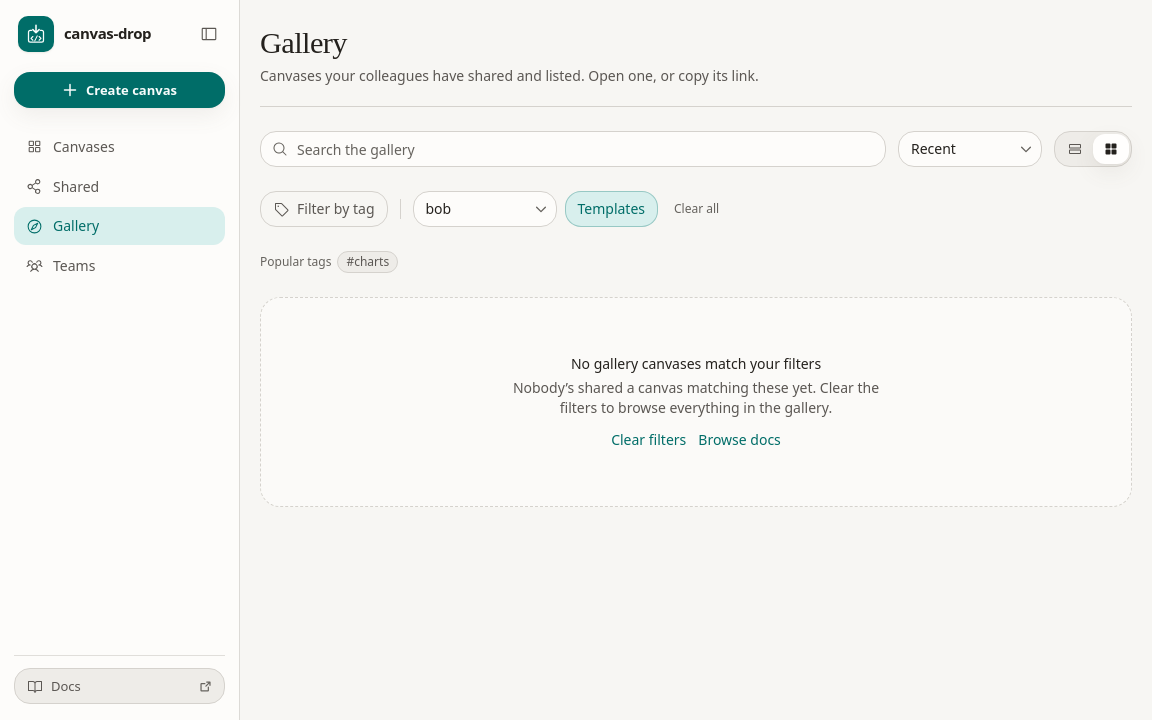
Test: Gallery view › Clear all resets every filter at once (plan 004)
The image size is (1152, 720).
Expected: the text "No gallery canvases match your filters" is shown, top-left (571, 354), bottom-right (821, 373)
Click the button "Clear all". click: x=697, y=209
box: top-left (666, 191), bottom-right (727, 227)
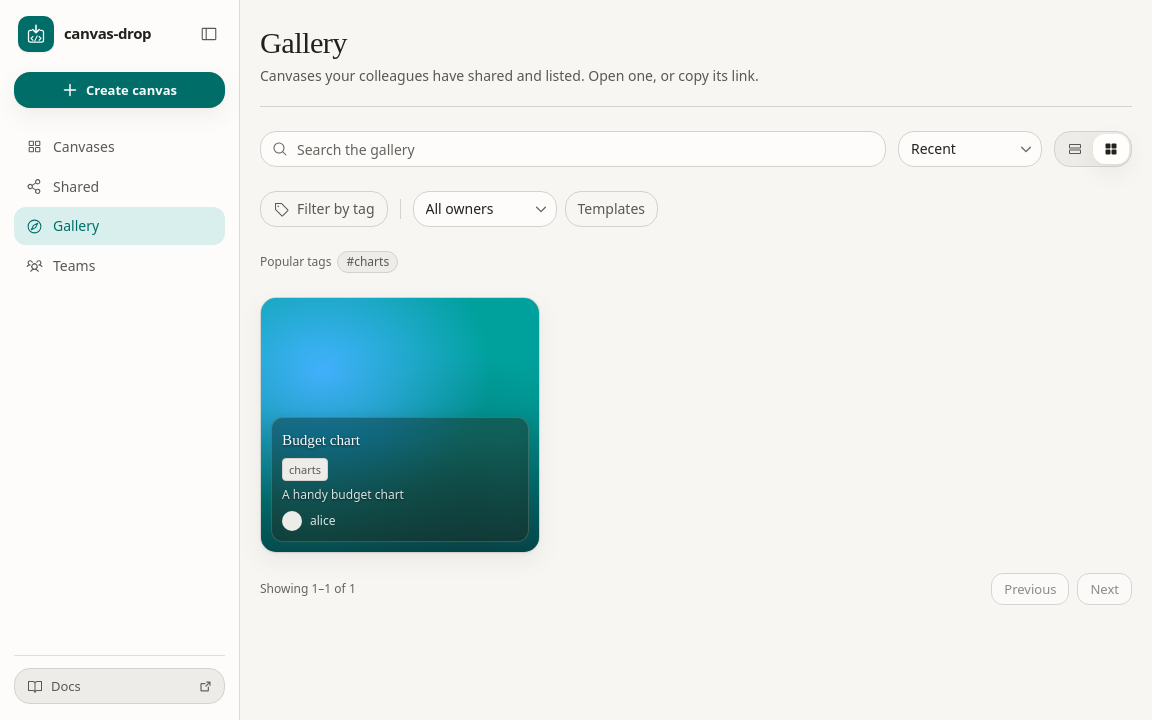
Now the link "Budget chart" is shown, box top-left (282, 428), bottom-right (360, 452)
